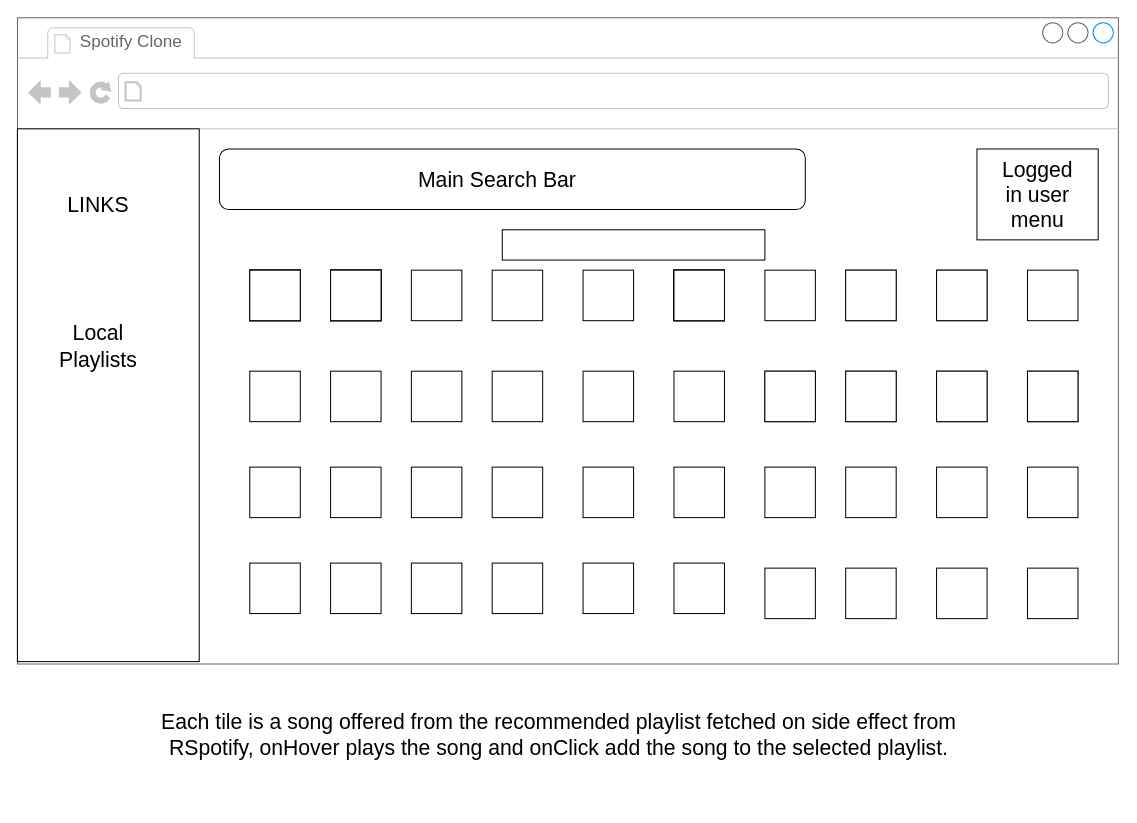
The diagram is 1137 pixels wide and 823 high, and some of its shapes have lost their labels. The centre of each missing label's shape, as x and y in pixels:
"https://localhost:4000/home" goes at pixel 274 91.
"Playlist select" goes at pixel 633 244.
